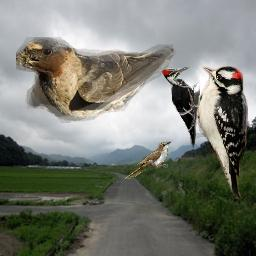Cuckoo: (123, 141, 171, 179)
Swallow: (16, 37, 176, 123)
Woodpecker: (195, 66, 248, 199), (161, 66, 200, 151)
